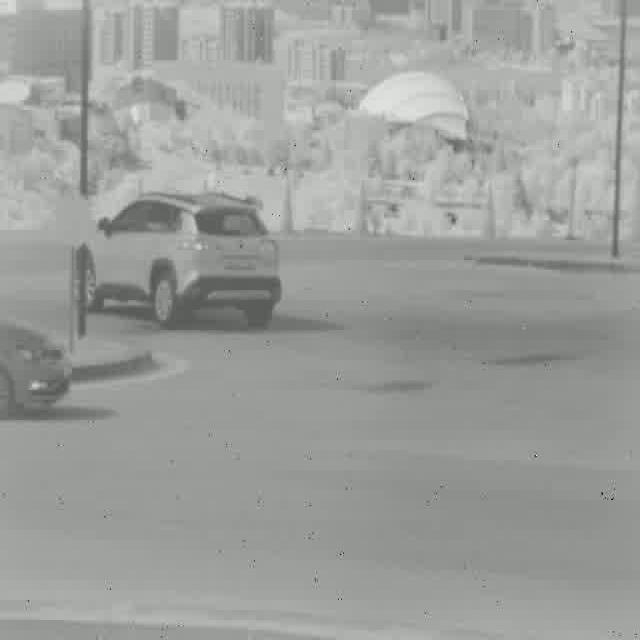Car: (80, 194, 279, 328), (0, 319, 70, 422)
